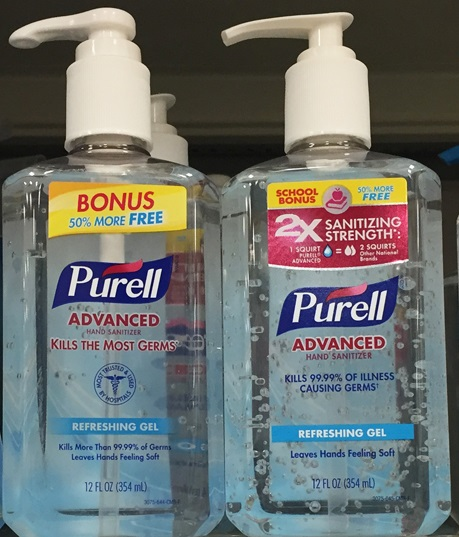Sanitizer: (214, 10, 455, 537), (1, 6, 228, 537)
